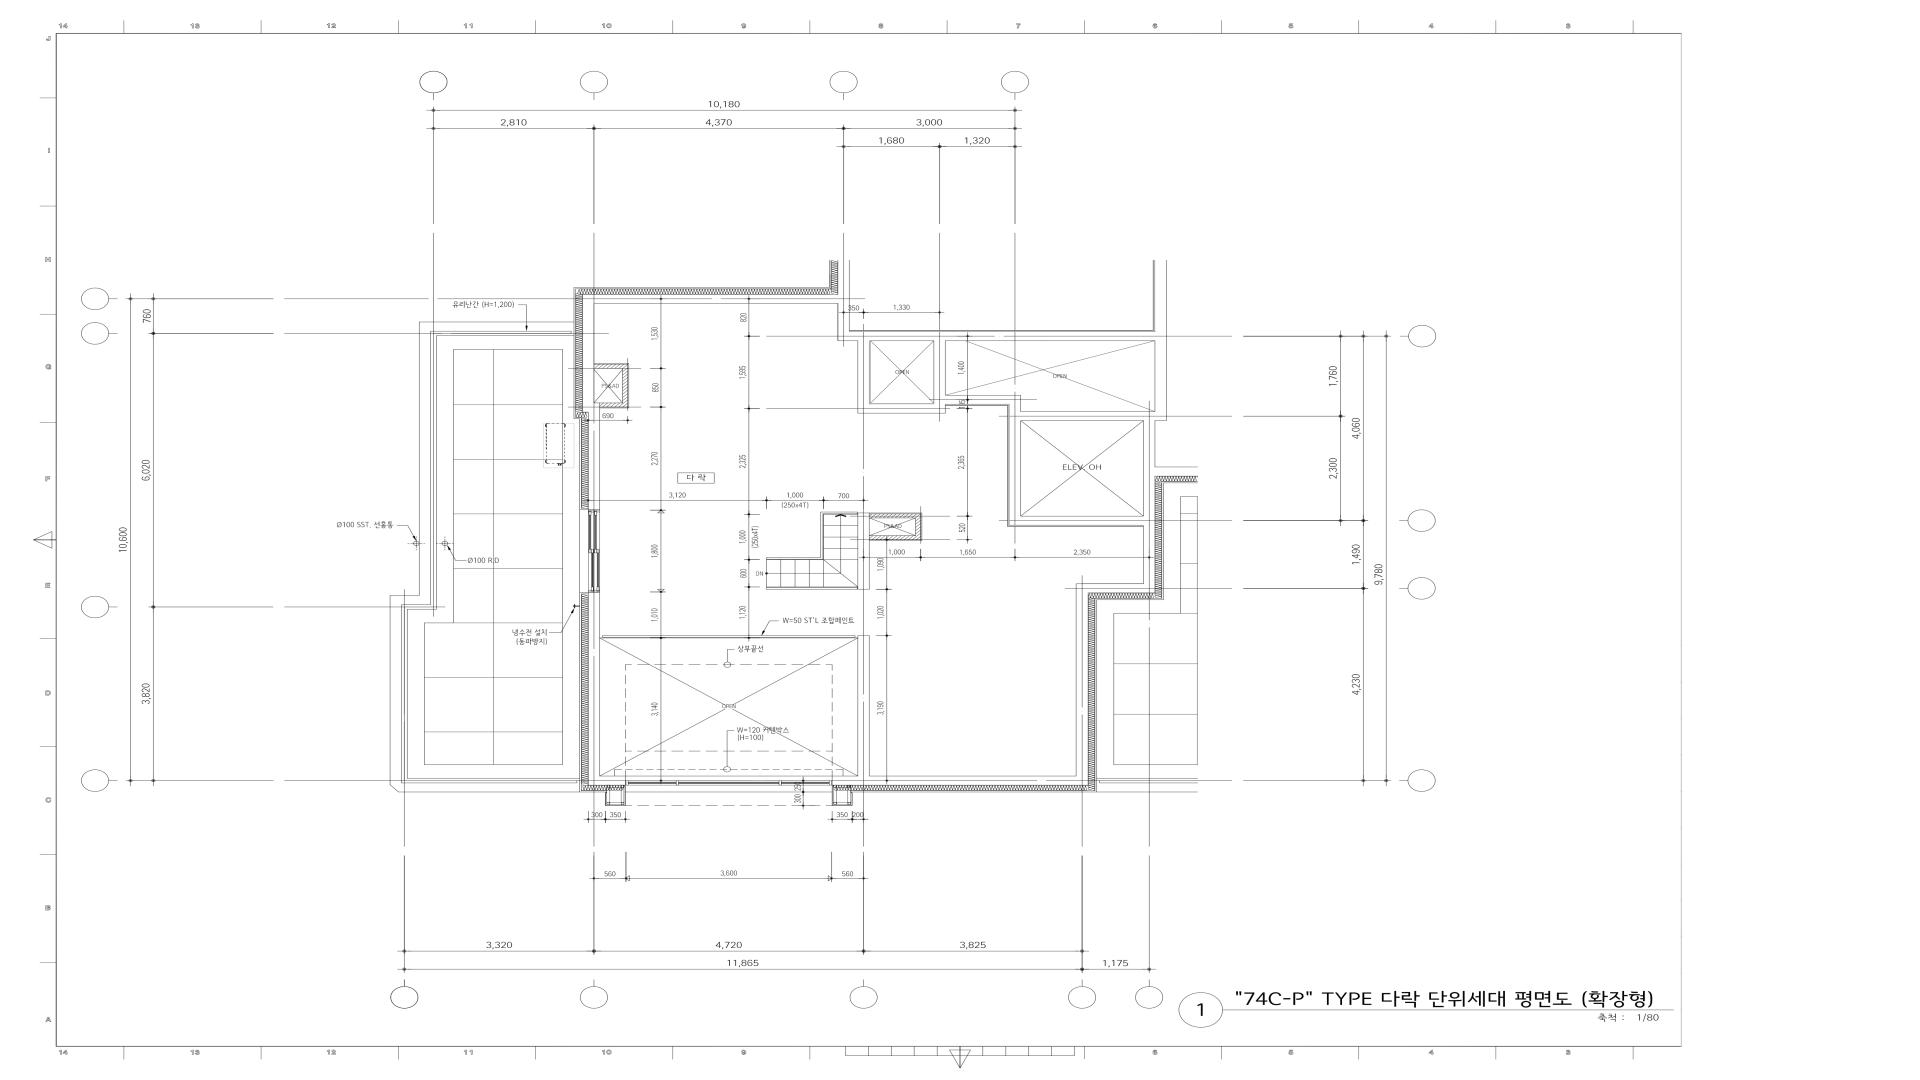wall: (419, 322, 454, 596), (389, 622, 425, 793), (425, 765, 580, 793), (454, 322, 574, 349), (832, 775, 1076, 786), (837, 332, 1155, 340), (1076, 593, 1088, 786), (588, 592, 600, 785), (595, 294, 837, 303), (1143, 421, 1155, 583), (389, 596, 454, 622), (857, 636, 869, 775), (1007, 394, 1021, 516), (1007, 516, 1143, 526), (583, 294, 595, 411), (1021, 411, 1167, 421), (588, 402, 600, 510), (857, 513, 870, 589), (857, 342, 870, 414), (1155, 332, 1167, 411), (934, 342, 945, 414), (1076, 583, 1155, 593), (945, 394, 1007, 406), (870, 404, 934, 414), (603, 636, 856, 638), (837, 294, 849, 332), (869, 535, 922, 541), (869, 513, 922, 518), (600, 775, 625, 786), (766, 587, 857, 589), (622, 368, 628, 402), (600, 402, 628, 407), (595, 364, 628, 368), (820, 514, 823, 559), (820, 512, 857, 514), (915, 518, 920, 535), (766, 558, 820, 559)
window: (625, 781, 832, 786), (588, 510, 600, 592)
